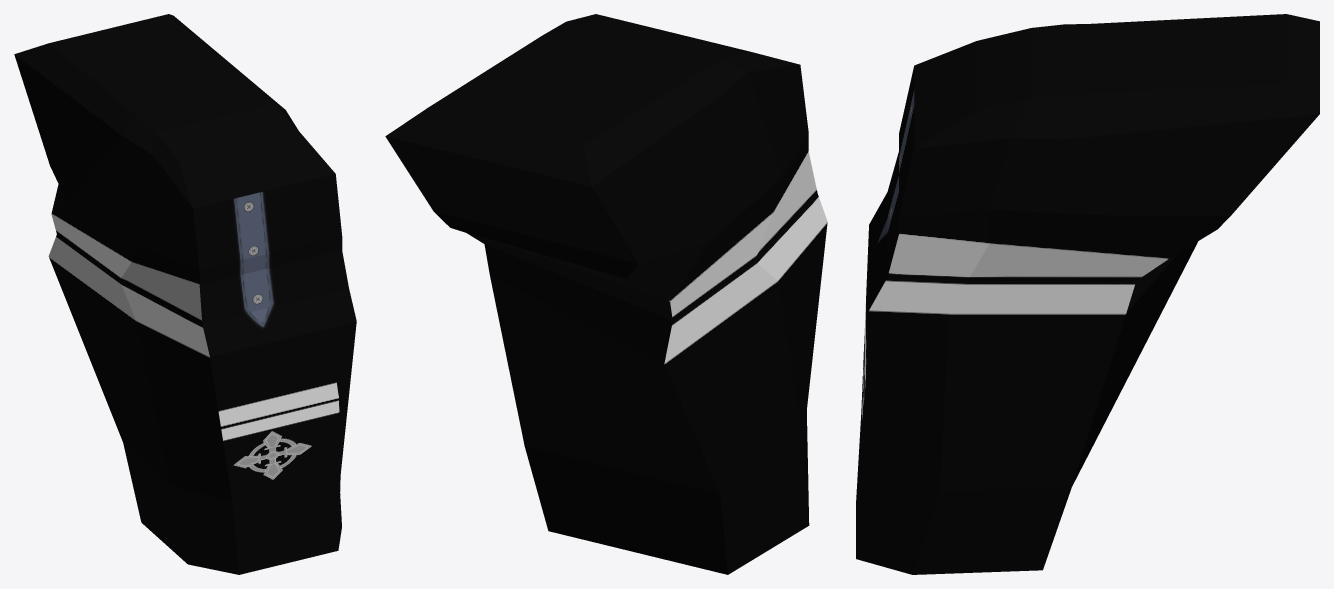
File: rightshoulder.obj
The picture shows the model from 3 angles, left to right: view 1: azimuth 30°, elevation 25°; view 2: azimuth 150°, elevation 25°; view 3: azimuth 270°, elevation 25°; orthographic projection. The views are drawn at different scales.
Parts seen in each view (by area): view 1: pCube2 pCube3; view 2: pCube2 pCube3; view 3: pCube2 pCube3.
Part boxes in pixels (left/top/right/bottom): pCube2 pCube3: left=14, top=14, right=356, bottom=574; pCube2 pCube3: left=385, top=14, right=827, bottom=574; pCube2 pCube3: left=856, top=14, right=1319, bottom=574.
Size of the model in its own units: 0.4721 by 0.9307 by 0.813.
1 material, 1 textured.
